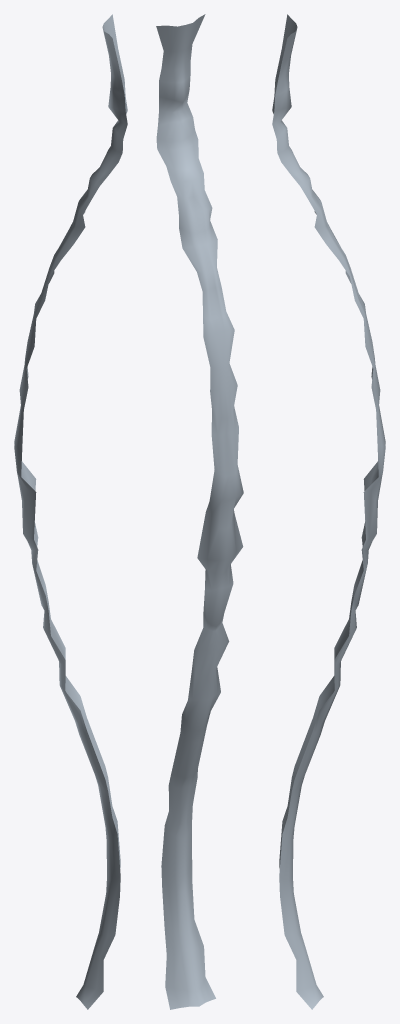
The model's file is ligamenta-flava.glb.
3 views of the same model, side by side, from view 1: azimuth 90°, elevation 25°; view 2: azimuth 210°, elevation 25°; view 3: azimuth 270°, elevation 25° (orthographic).
Visible parts, largest first — view 1: Ligamenta flava; view 2: Ligamenta flava; view 3: Ligamenta flava.
Boxes of the visible parts, left/top/right/bottom form: Ligamenta flava: left=14, top=14, right=127, bottom=1009; Ligamenta flava: left=156, top=14, right=243, bottom=1009; Ligamenta flava: left=272, top=14, right=385, bottom=1009.
Size of the model in its own units: 0.0297 by 0.5585 by 0.0591.
